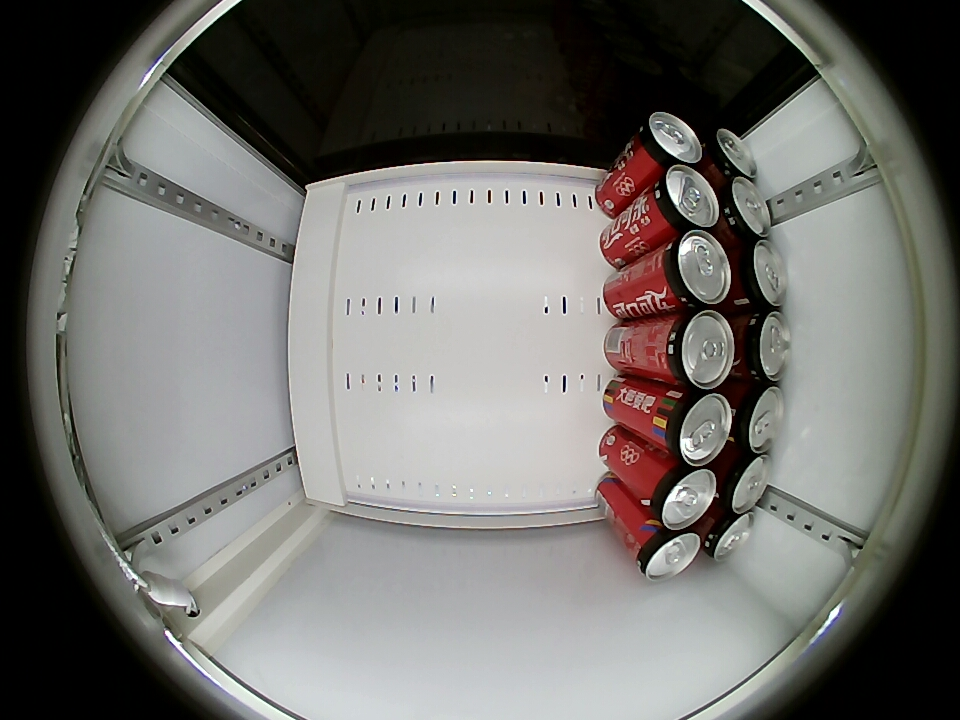lingdukele: (657, 311, 736, 389), (658, 229, 732, 309), (657, 388, 732, 466), (647, 462, 718, 530), (649, 165, 720, 232), (633, 112, 703, 172), (736, 310, 791, 383), (632, 525, 702, 581), (732, 240, 787, 309), (730, 384, 784, 454), (716, 177, 771, 241), (716, 452, 772, 514), (704, 128, 757, 183), (701, 507, 754, 561)
